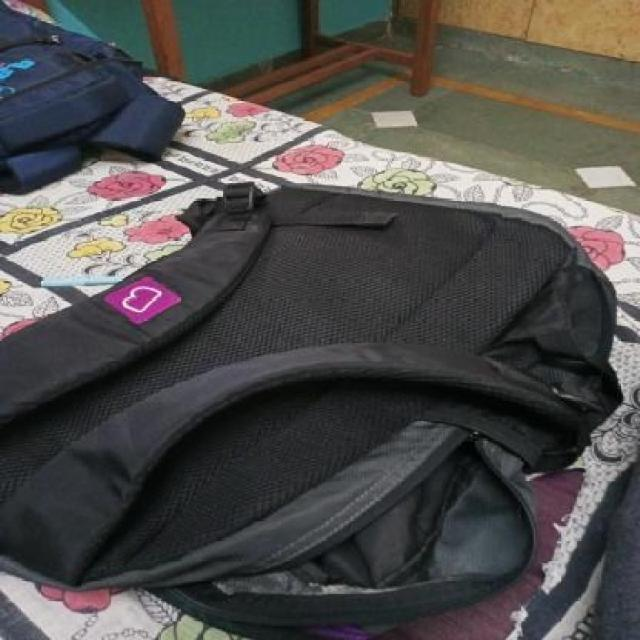backpack: (0, 171, 631, 640)
